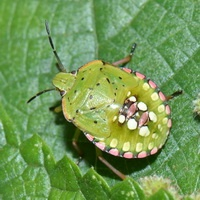insect: (28, 44, 181, 158)
